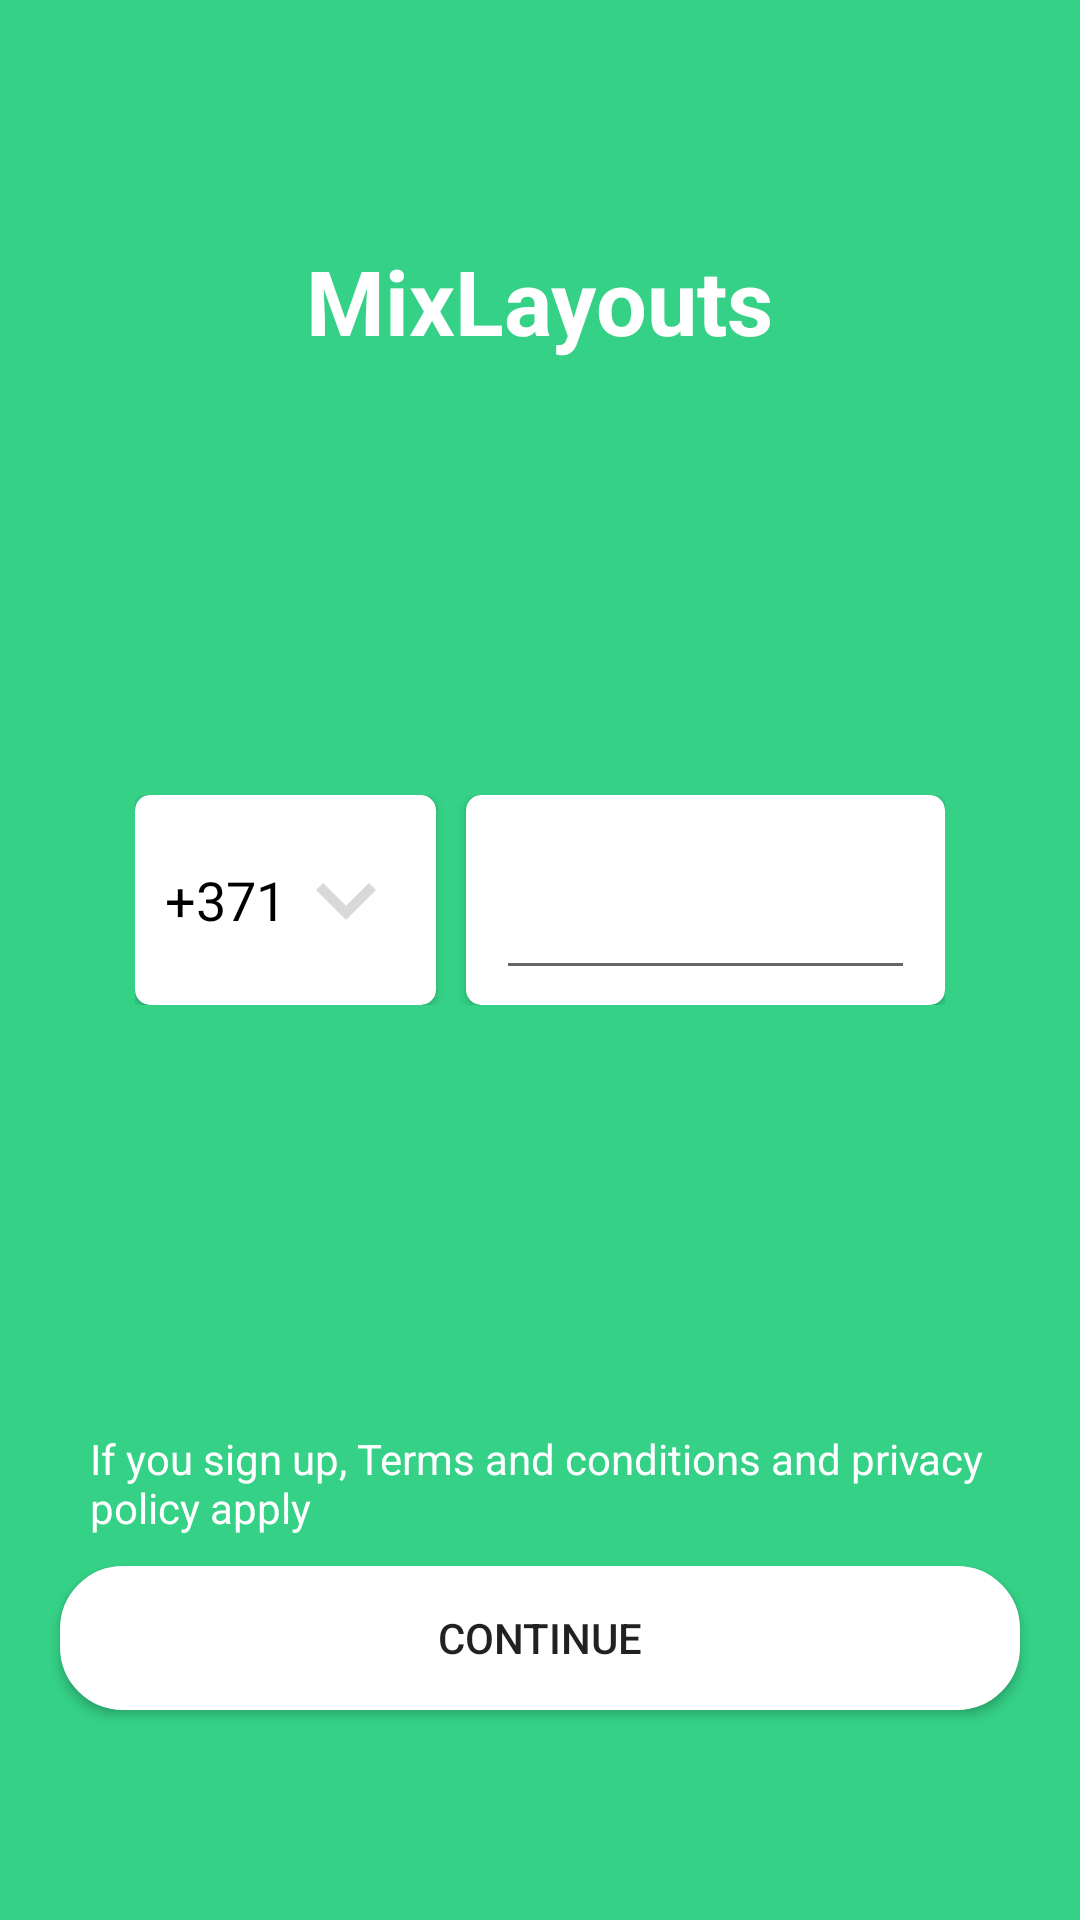

Named icons in this screenshot (1080×1920) and their centers, (x,y):
expand: (346,901)
